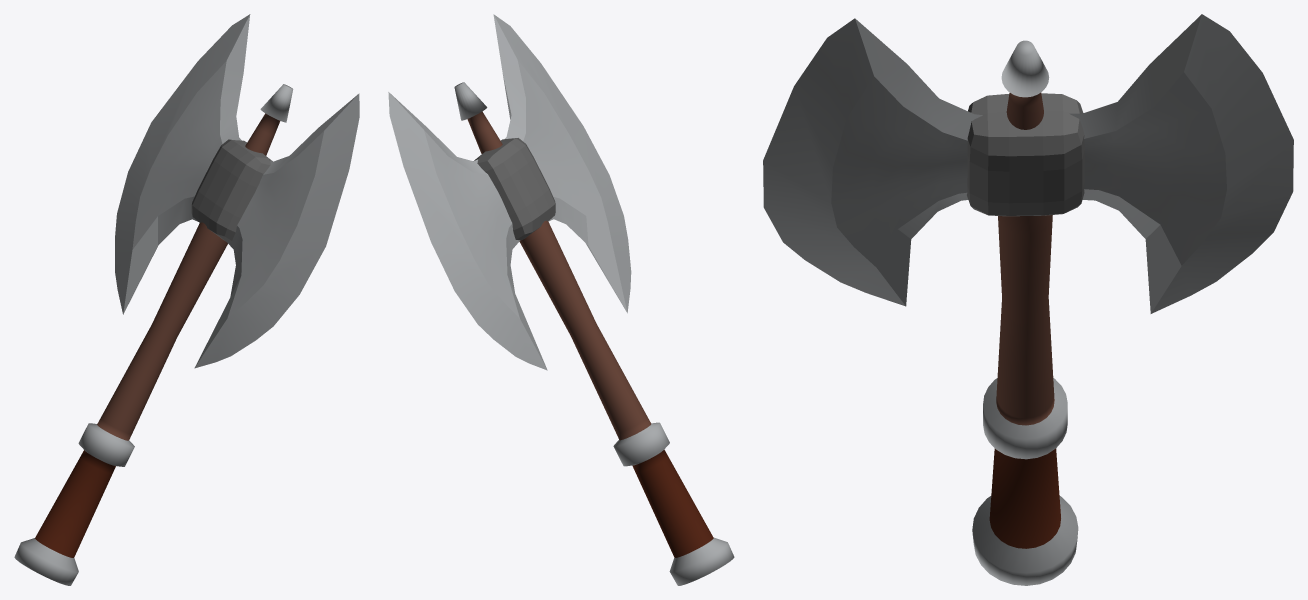
The model's file is bs-axe2.fbx.
3 renders of one model, left to right at view 1: azimuth 30°, elevation 25°; view 2: azimuth 150°, elevation 25°; view 3: azimuth 270°, elevation 25°, orthographic. The views are drawn at different scales.
Visible parts, largest first — view 1: metal_base_low.001; view 2: metal_base_low.001; view 3: metal_base_low.001.
Part boxes in pixels (x1=…): metal_base_low.001: x1=14, y1=14, x2=359, y2=585; metal_base_low.001: x1=388, y1=14, x2=734, y2=585; metal_base_low.001: x1=763, y1=14, x2=1293, y2=585.
Size of the model in its own units: 95.8 by 149 by 94.23.
